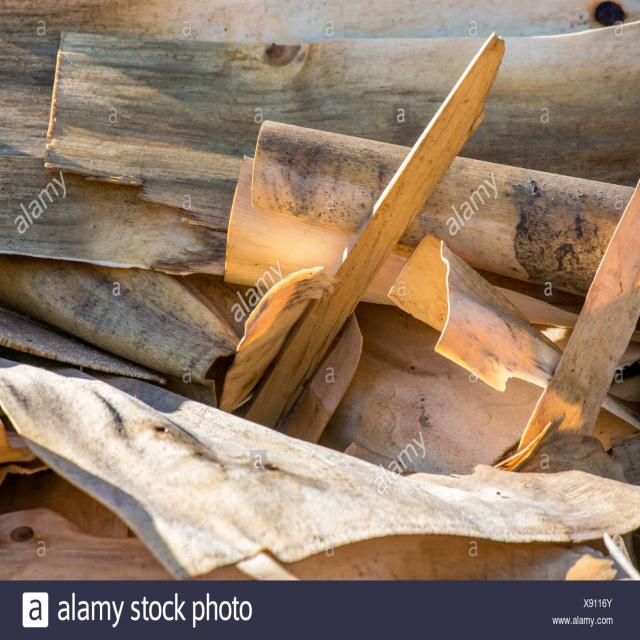green waste: (1, 5, 639, 579)
